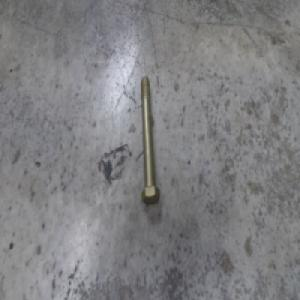Bolt: (138, 75, 160, 204)
